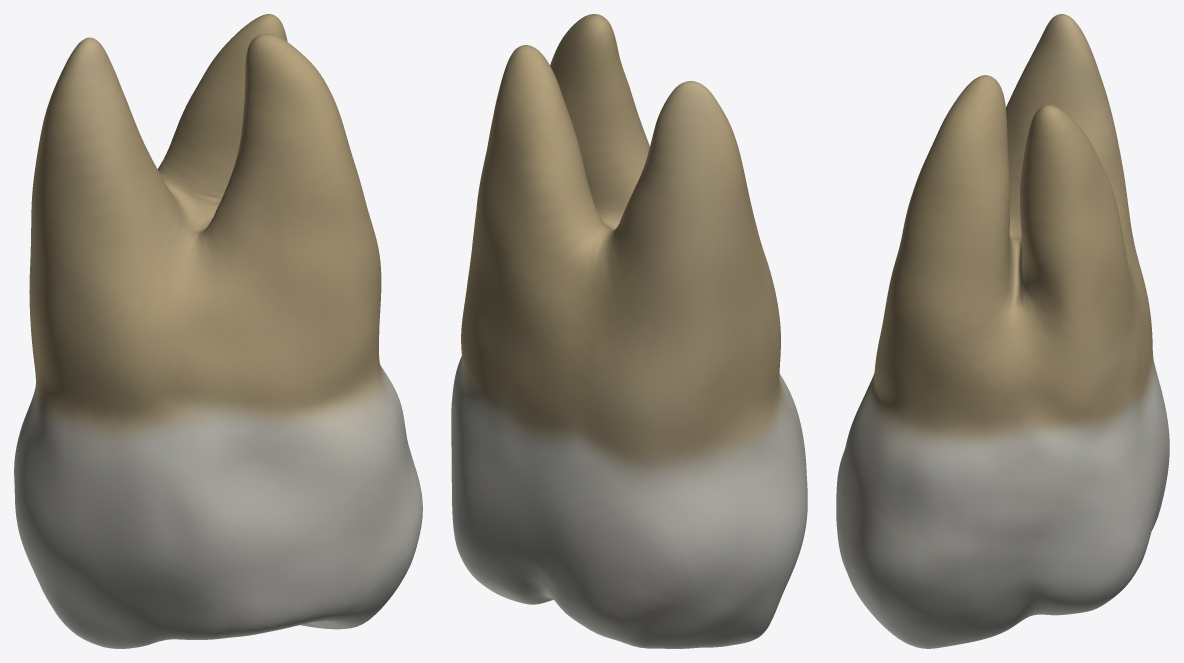
The model's file is maxillary_third_molar.glb.
The picture shows the model from 3 angles, left to right: view 1: azimuth 30°, elevation 25°; view 2: azimuth 150°, elevation 25°; view 3: azimuth 270°, elevation 25°; orthographic projection. The views are drawn at different scales.
Parts seen in each view (by area): view 1: Object_2; view 2: Object_2; view 3: Object_2.
Part boxes in pixels (x1,y1,x2,y2): Object_2: [14, 14, 422, 648]; Object_2: [451, 14, 807, 648]; Object_2: [836, 14, 1169, 648].
Size of the model in its own units: 0.9412 by 1.55 by 0.8481.
Materials: 1 (1 with a texture image).
